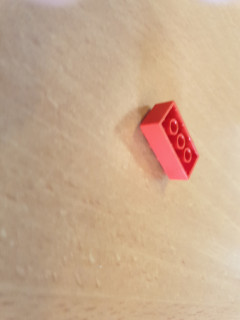2x4 red: (138, 99, 202, 183)
